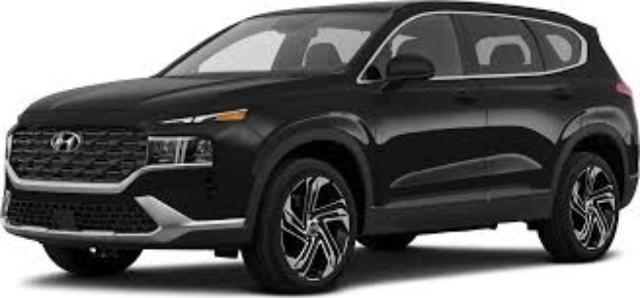hyundai: (1, 2, 638, 294)
